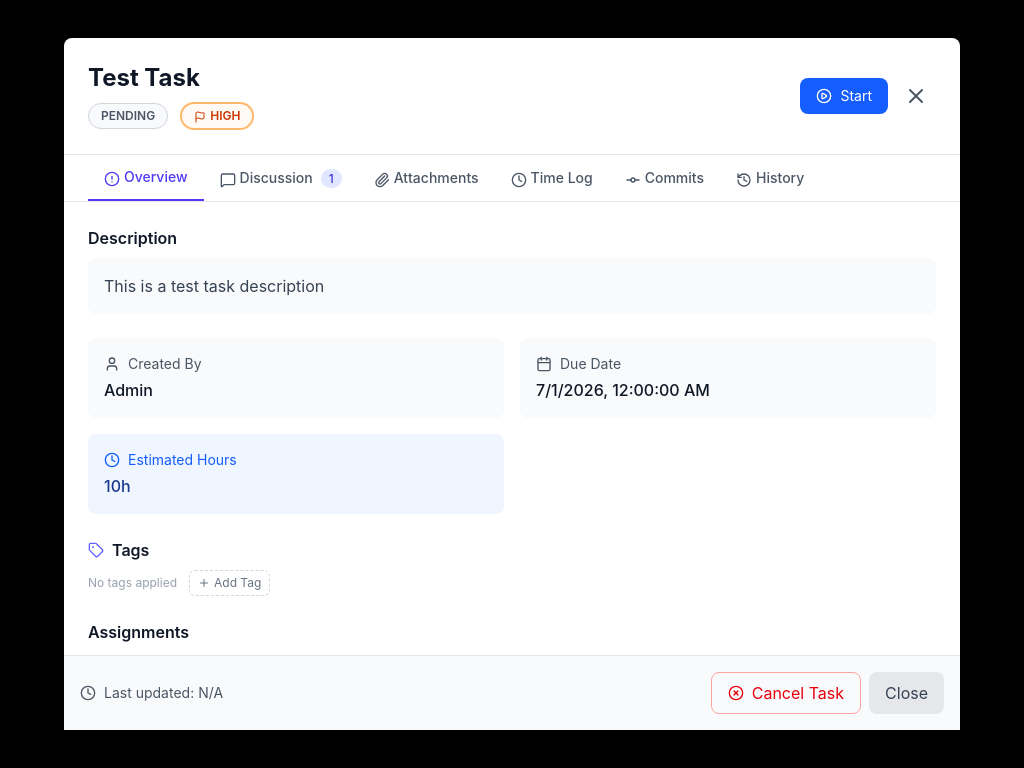
it: TaskDetailsModal extended coverage › shows existing comments in Discussion tab
Click the button "Discussion1".
click(281, 178)  # box [204, 155, 358, 201]
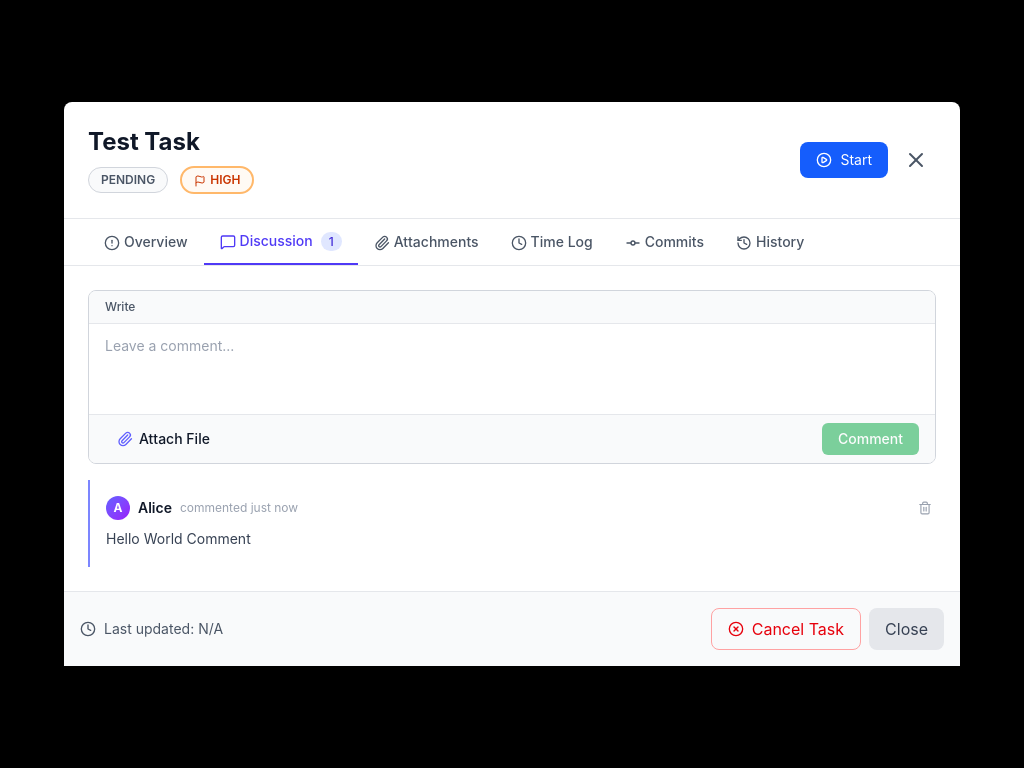
Now the text "Hello World Comment" is shown, box [106, 530, 251, 547]
